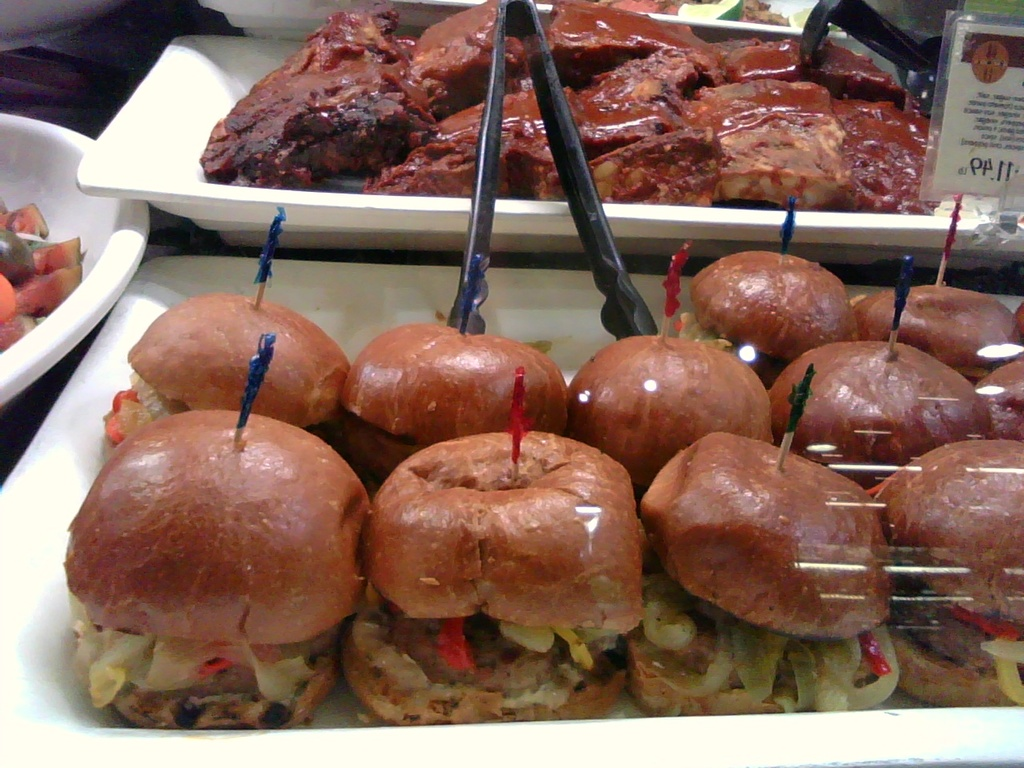Hamburger: (60, 252, 1023, 731)
